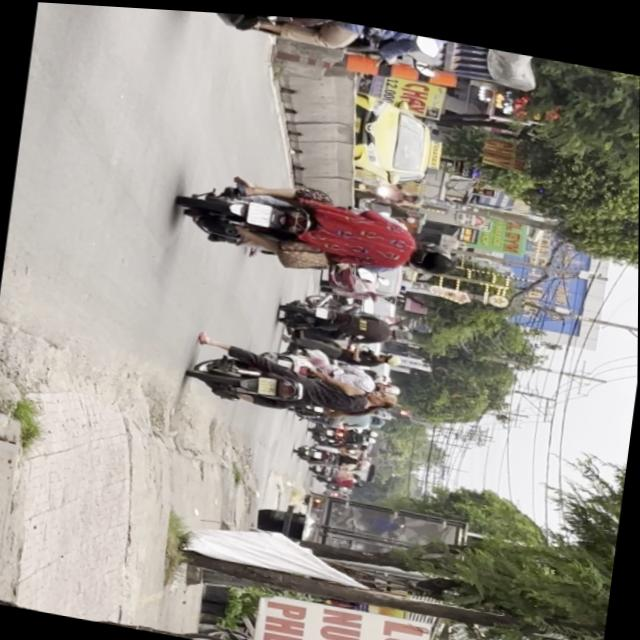licenseplate: (172, 160, 465, 291), (186, 330, 411, 429)
motorcyclist: (409, 239, 458, 271), (366, 380, 400, 406)
nohelmet: (245, 196, 274, 223), (256, 372, 277, 392)
